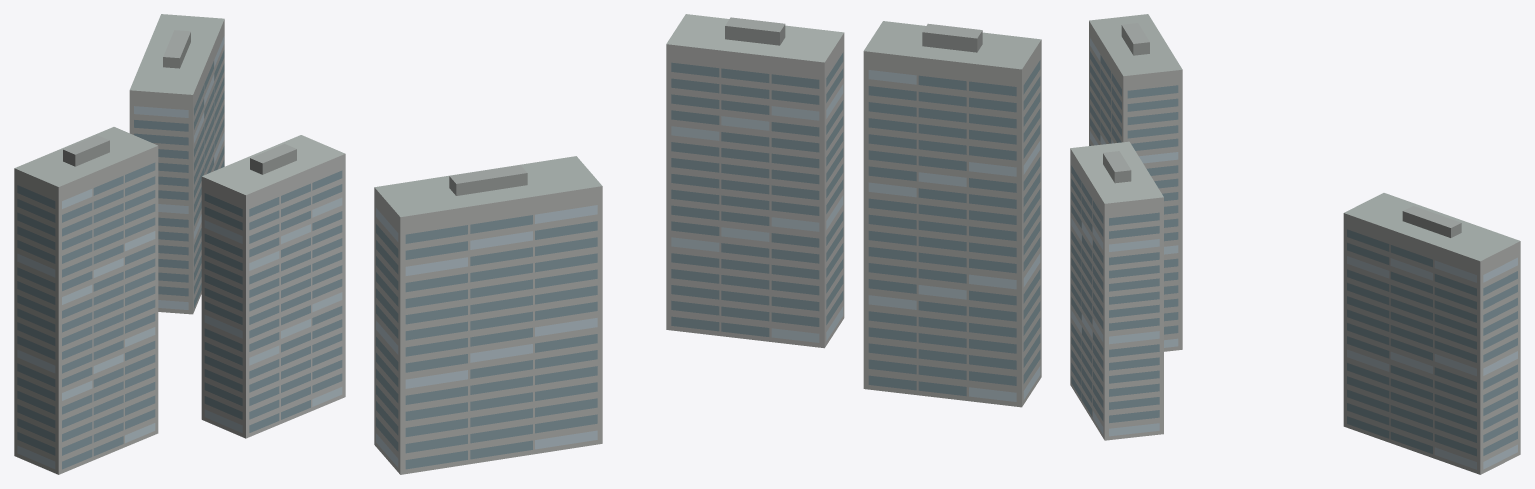
Rendered from apt-a13378101.glb.
The picture shows the model from 3 angles, left to right: view 1: azimuth 30°, elevation 25°; view 2: azimuth 150°, elevation 25°; view 3: azimuth 270°, elevation 25°; orthographic projection. The views are drawn at different scales.
Visible parts, largest first — view 1: apt-a13378101; view 2: apt-a13378101; view 3: apt-a13378101.
Part boxes in pixels (left/top/right/bottom): apt-a13378101: left=14, top=14, right=345, bottom=474; apt-a13378101: left=374, top=14, right=1041, bottom=474; apt-a13378101: left=1070, top=14, right=1520, bottom=474.
Bounding box in the file's own units: 79.79 × 60 × 83.95.
